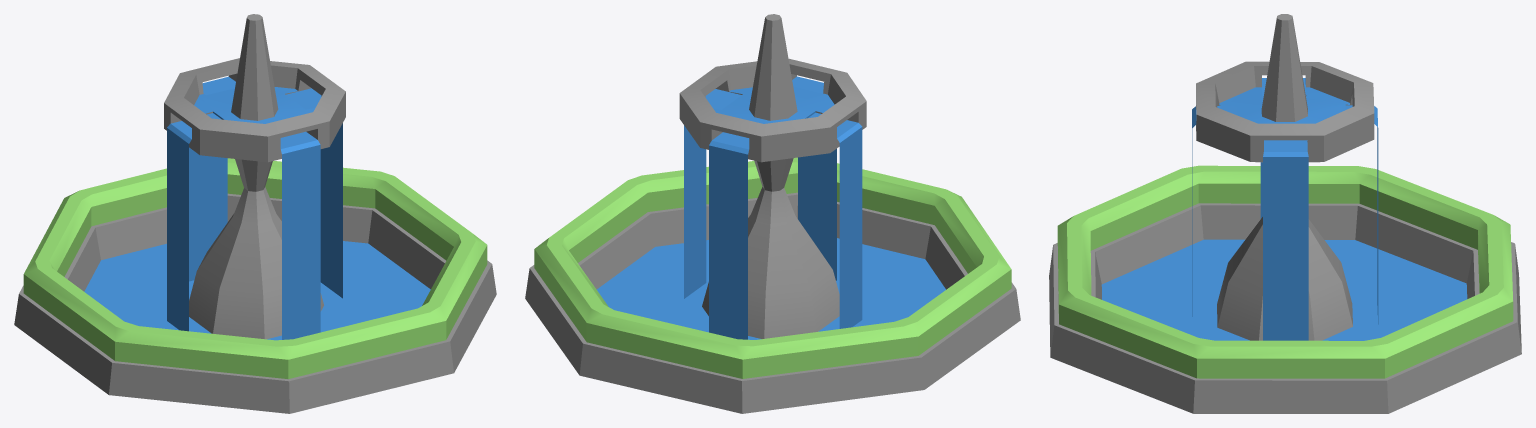
The model's file is DatingSimFountain.fbx.
The picture shows the model from 3 angles, left to right: view 1: azimuth 30°, elevation 25°; view 2: azimuth 150°, elevation 25°; view 3: azimuth 270°, elevation 25°; orthographic projection. The views are drawn at different scales.
Visible parts, largest first — view 1: Fountain; view 2: Fountain; view 3: Fountain.
Part boxes in pixels (bbox=[...]): Fountain: bbox=[14, 14, 496, 413]; Fountain: bbox=[525, 14, 1020, 413]; Fountain: bbox=[1049, 14, 1521, 413].
Bounding box in the file's own units: 198 × 140 × 202.
